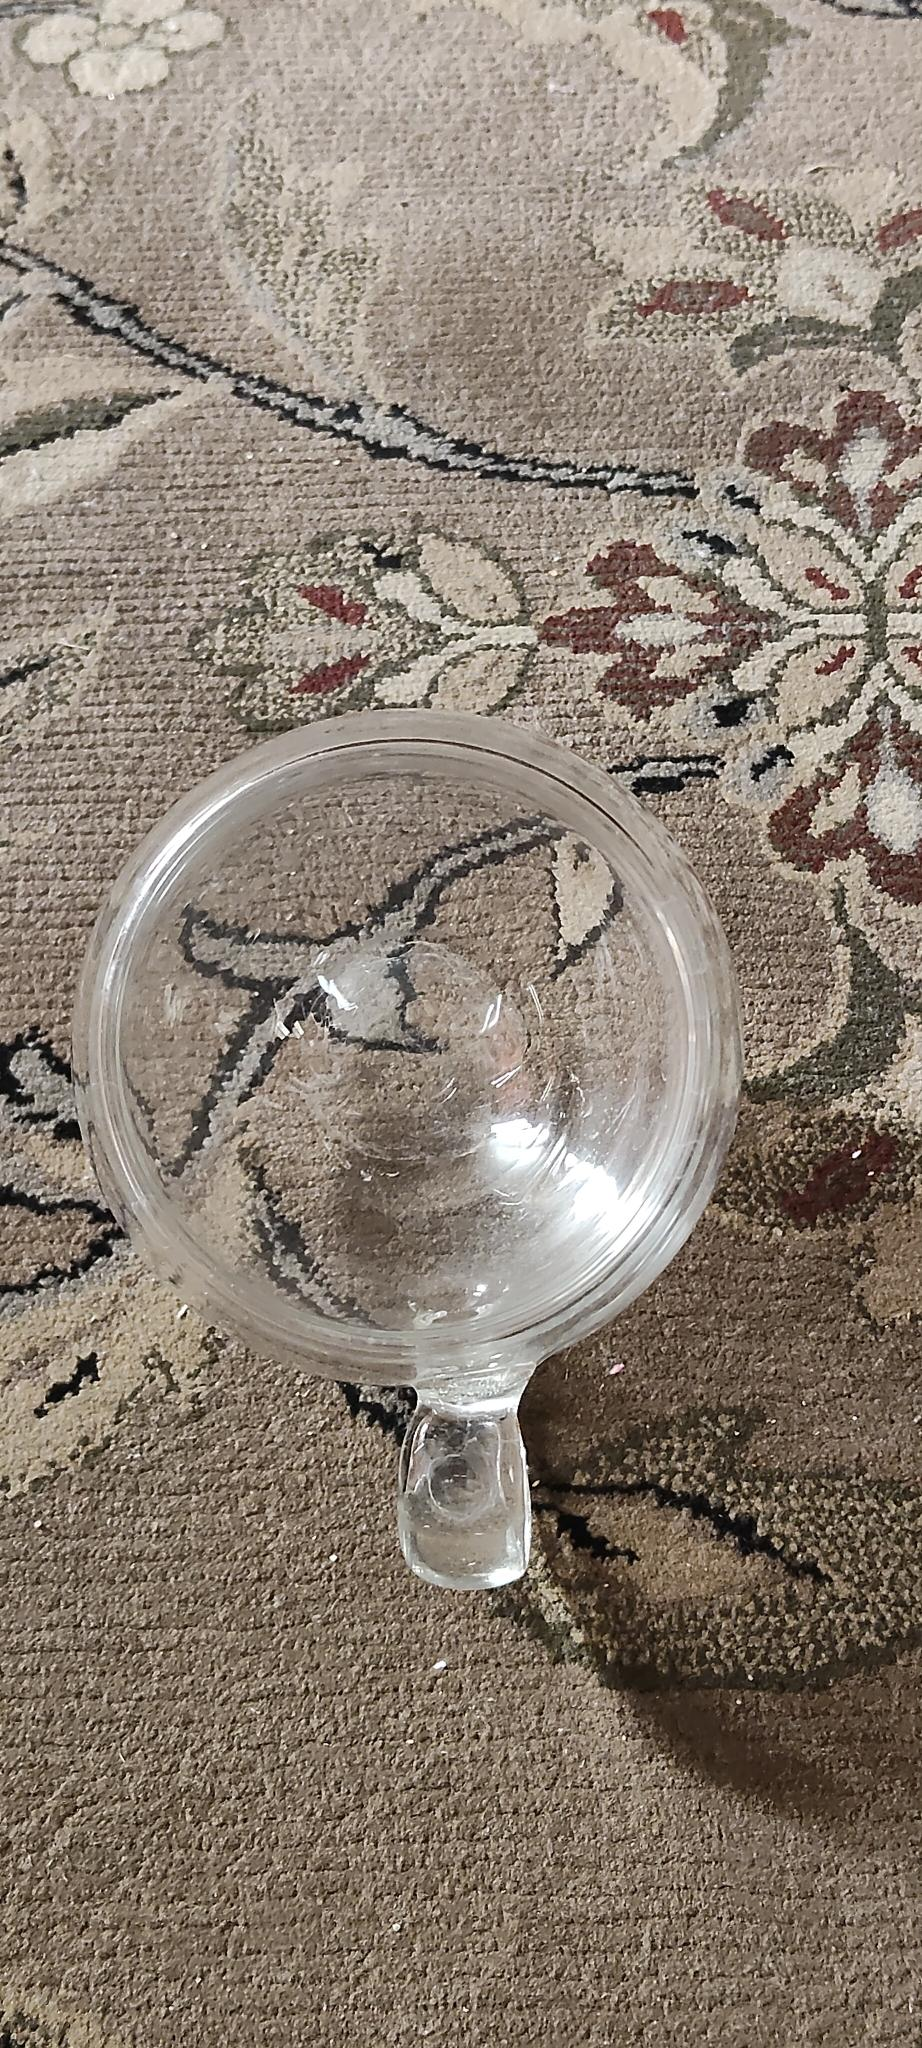Mug: (83, 722, 760, 1597)
